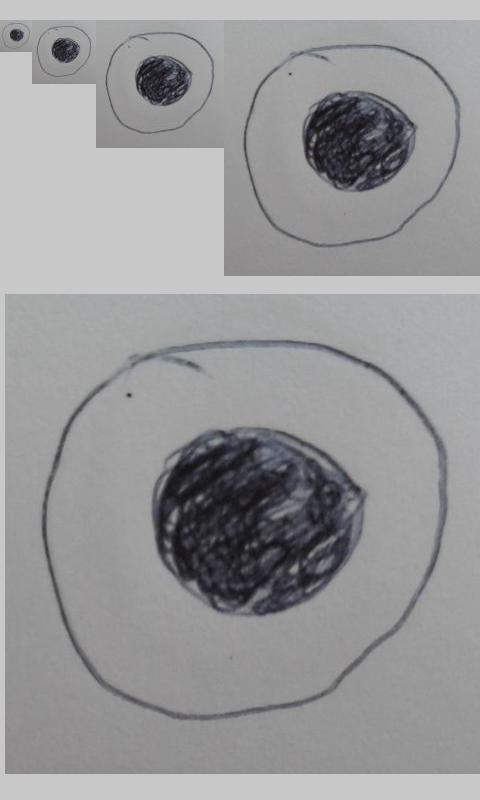radio_button: (40, 336, 451, 723), (242, 43, 463, 248), (104, 30, 216, 135), (36, 25, 92, 78), (1, 22, 31, 50)
